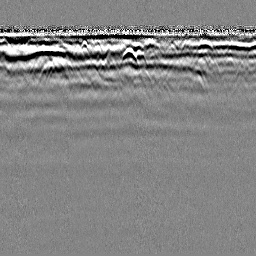cavity: (119, 46, 141, 69)
